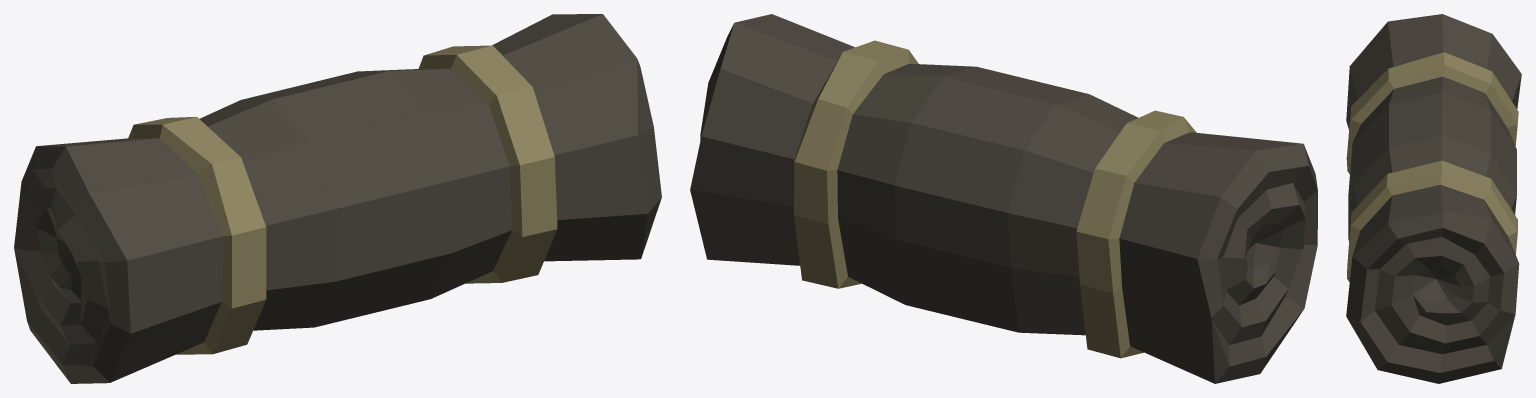
File: Roll.fbx
3 renders of one model, left to right at view 1: azimuth 30°, elevation 25°; view 2: azimuth 150°, elevation 25°; view 3: azimuth 270°, elevation 25°, orthographic. The views are drawn at different scales.
Parts seen in each view (by area): view 1: Roll; view 2: Roll; view 3: Roll.
Part boxes in pixels (box(x1,y1,x2,y2)): Roll: box(14, 14, 661, 383); Roll: box(690, 14, 1317, 383); Roll: box(1346, 14, 1521, 383).
Size of the model in its own units: 45.65 by 17.93 by 16.05.
